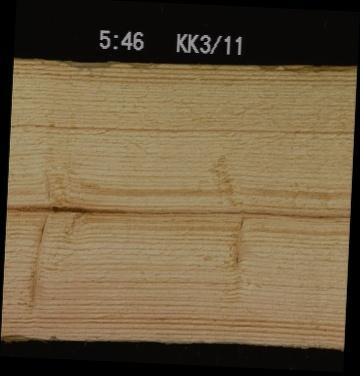split: (5, 203, 349, 220)
wave: (12, 56, 118, 65)
